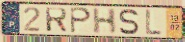2: (22, 6, 42, 33)
H: (91, 7, 118, 35)
L: (144, 8, 163, 37)
P: (69, 6, 92, 34)
R: (44, 7, 69, 33)
S: (118, 8, 140, 36)
